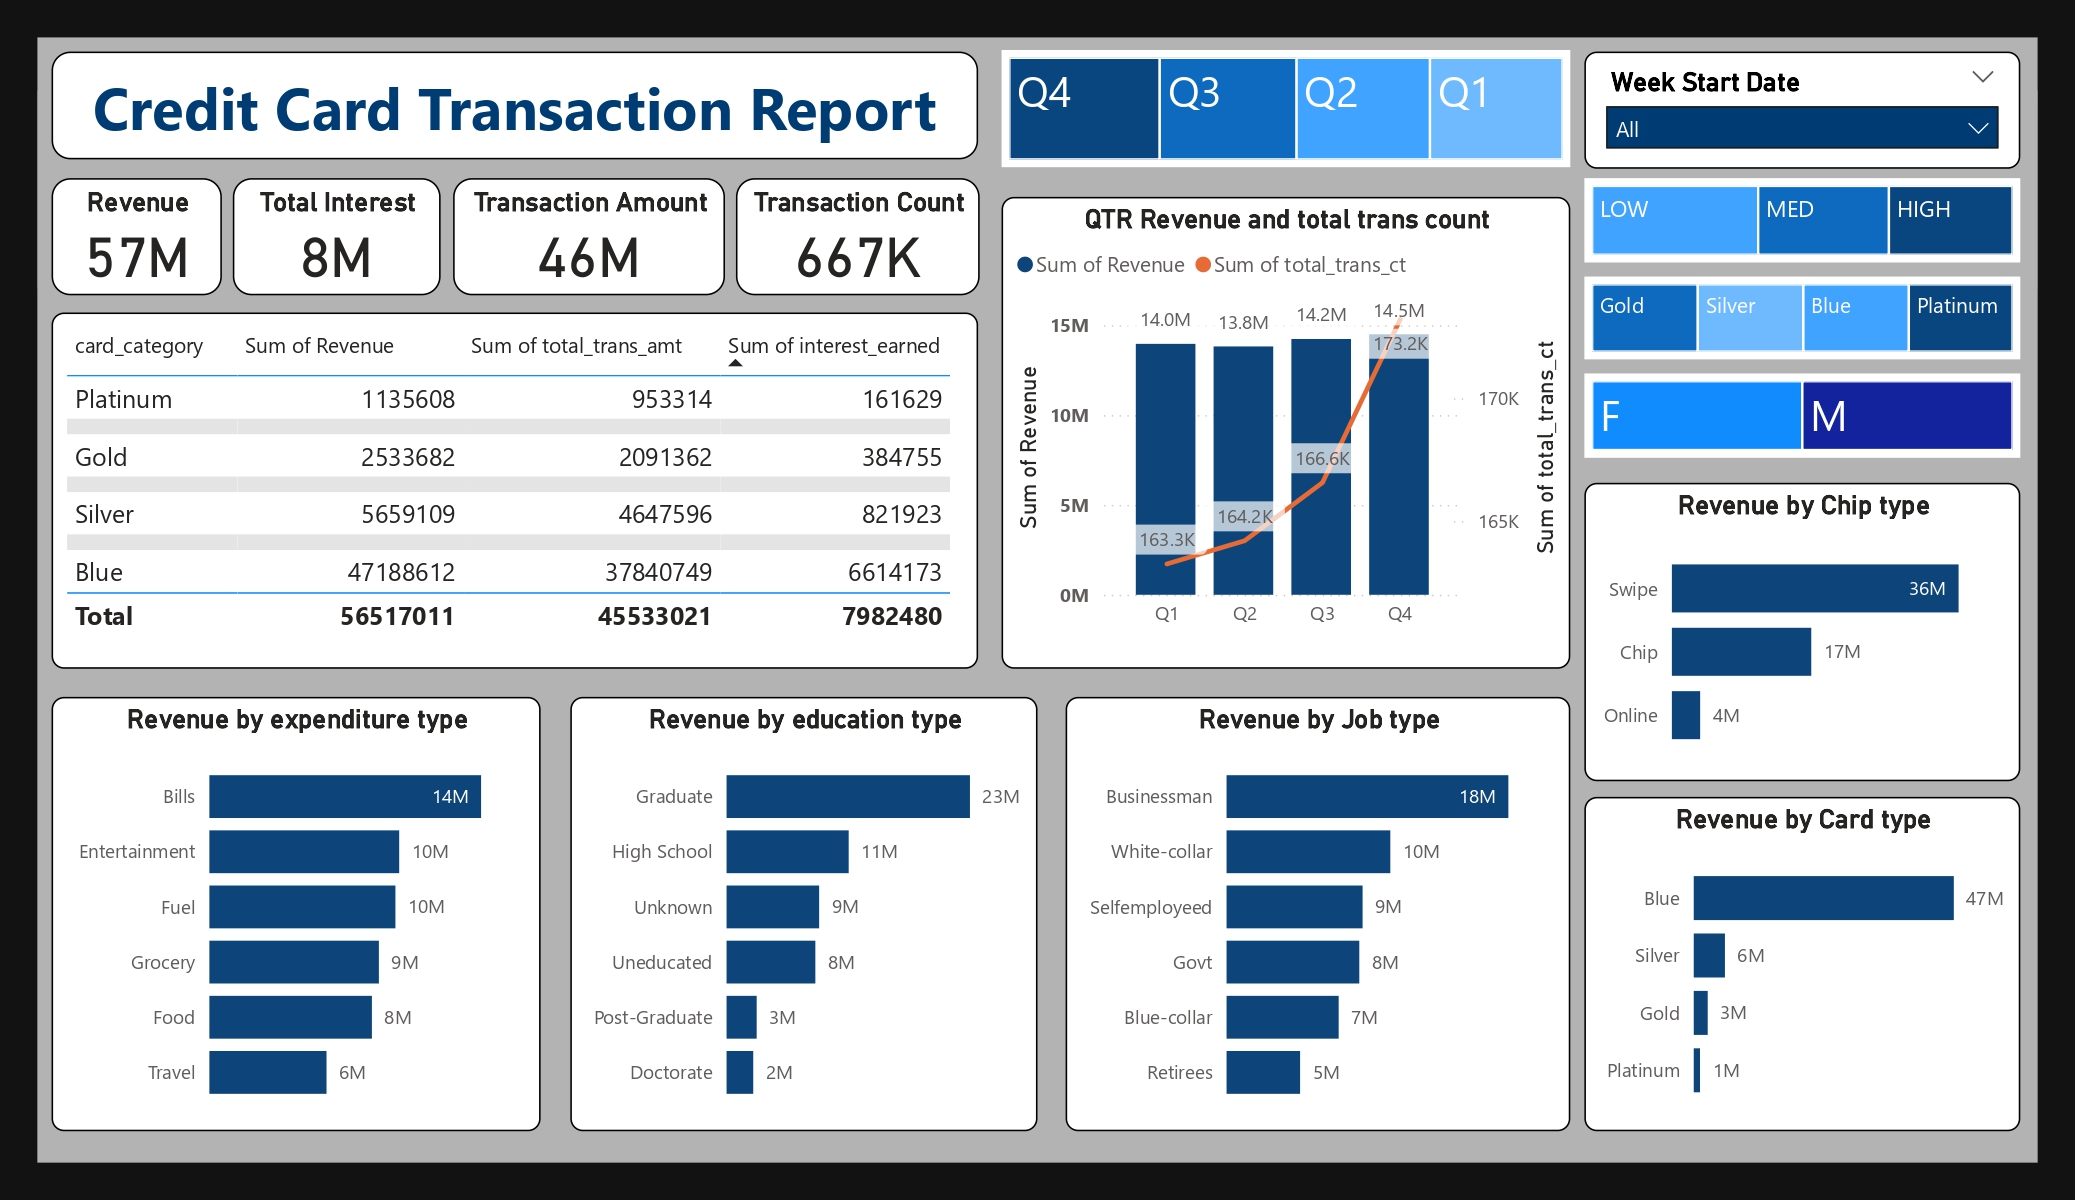

The page's visual inventory and layout, read from the dashboard file:
{"tool":"powerbi","page":{"name":"CC_Transaction","canvas":[1280,720],"ordinal":1},"visuals":[{"type":"textbox","box":[9,9,593.4,69],"z":0},{"type":"lineStackedColumnComboChart","title":"QTR Revenue and total trans  count","fields":{"Category":["public cc_detail.qtr"],"Y":["Sum(public cc_detail.Revenue)"],"Y2":["Sum(public cc_detail.total_trans_ct)"]},"box":[617.5,102.2,363.6,302],"z":1000},{"type":"barChart","title":" Revenue by expenditure type","fields":{"Y":["Sum(public cc_detail.Revenue)"],"Category":["public cc_detail.exp_type"]},"box":[9,422.2,312.5,277.9],"z":2000},{"type":"barChart","title":" Revenue by education type","fields":{"Y":["Sum(public cc_detail.Revenue)"],"Category":["public cust_detail.education_level"]},"box":[341,422.2,299,277.9],"z":3000},{"type":"barChart","title":" Revenue by Job type","fields":{"Y":["Sum(public cc_detail.Revenue)"],"Category":["public cust_detail.customer_job"]},"box":[658,422.2,323,277.9],"z":4000},{"type":"barChart","title":" Revenue by Card type","fields":{"Y":["Sum(public cc_detail.Revenue)"],"Category":["public cc_detail.card_category"]},"box":[990.4,485.8,279,214],"z":5000},{"type":"tableEx","title":" Revenue by expenditure type","fields":{"Values":["public cc_detail.card_category","Sum(public cc_detail.Revenue)","Sum(public cc_detail.total_trans_amt)","Sum(public cc_detail.interest_earned)"]},"box":[9,175.8,593.4,228.4],"z":6000},{"type":"card","title":"Revenue","fields":{"Values":["Sum(public cc_detail.Revenue)"]},"box":[9.4,89.8,108.5,74.9],"z":7000},{"type":"card","title":"Transaction Amount","fields":{"Values":["Sum(public cc_detail.total_trans_amt)"]},"box":[265.9,90.1,174.3,75.1],"z":8000},{"type":"card","title":"Total Interest","fields":{"Values":["Sum(public cc_detail.interest_earned)"]},"box":[124.7,90.1,133.7,75.1],"z":9000},{"type":"card","title":"Transaction Count","fields":{"Values":["Sum(public cc_detail.total_trans_ct)"]},"box":[447.3,89.8,155.3,74.9],"z":10000},{"type":"barChart","title":" Revenue by Chip type","fields":{"Y":["Sum(public cc_detail.Revenue)"],"Category":["public cc_detail.use_chip"]},"box":[990,285.4,279.4,190.8],"z":11000},{"type":"slicer","fields":{"Values":["public cc_detail.week_start_date"]},"box":[990,9,279.4,75.1],"z":12000},{"type":"treemap","fields":{"Group":["public cc_detail.qtr"],"Values":["Avg(public cc_detail.client_num)"]},"box":[617.5,7.5,363.6,75.1],"z":13000},{"type":"treemap","fields":{"Group":["public cust_detail.gender"],"Values":["Avg(public cc_detail.client_num)"]},"box":[990,214.8,279.4,54.1],"z":14000},{"type":"treemap","fields":{"Values":["Avg(public cc_detail.client_num)"],"Group":["public cc_detail.card_category"]},"box":[990,153.2,279.4,52.6],"z":15000},{"type":"treemap","fields":{"Values":["Sum(public cc_detail.client_num)"],"Group":["public cust_detail.IncomeGroup"]},"box":[990,90.1,279.4,54.1],"z":16000}]}

Visuals, with their boxes in screenshot pixels (x1, y1, x2, y2):
textbox: [52,52,979,159]
"QTR Revenue and total trans  count" lineStackedColumnComboChart: [1002,197,1570,669]
" Revenue by expenditure type" barChart: [52,697,540,1131]
" Revenue by education type" barChart: [570,697,1038,1131]
" Revenue by Job type" barChart: [1066,697,1570,1131]
" Revenue by Card type" barChart: [1585,797,2021,1131]
" Revenue by expenditure type" tableEx: [52,312,979,669]
"Revenue" card: [52,178,222,295]
"Transaction Amount" card: [453,178,725,296]
"Total Interest" card: [232,178,441,296]
"Transaction Count" card: [736,178,979,295]
" Revenue by Chip type" barChart: [1584,483,2021,782]
slicer - public cc_detail.week_start_date: [1584,52,2021,169]
treemap - public cc_detail.qtr x Avg(public cc_detail.client_num): [1002,49,1570,167]
treemap - public cust_detail.gender x Avg(public cc_detail.client_num): [1584,373,2021,458]
treemap - Avg(public cc_detail.client_num) x public cc_detail.card_category: [1584,277,2021,359]
treemap - Sum(public cc_detail.client_num) x public cust_detail.IncomeGroup: [1584,178,2021,263]
